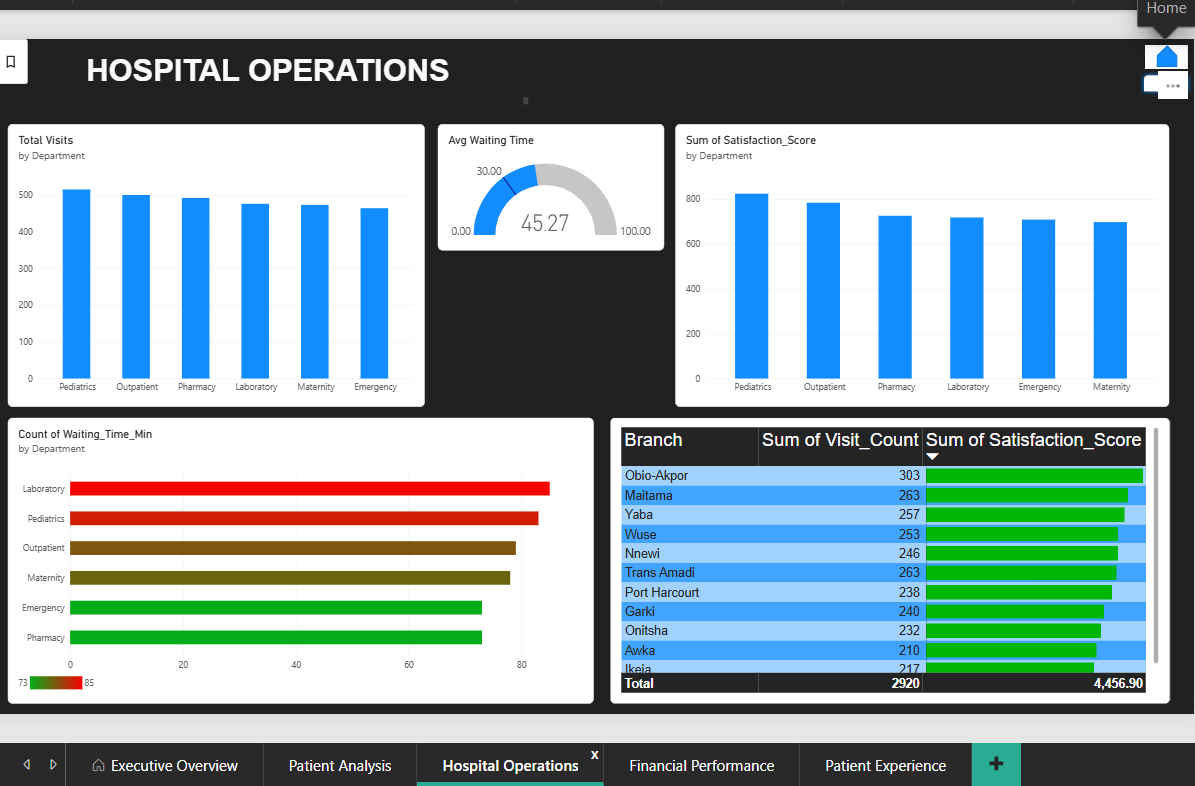

Layout of this report page (visuals, bound fields, positions):
{"tool":"powerbi","page":{"name":"Hospital Operations","canvas":[1920,1080],"ordinal":2},"visuals":[{"type":"textbox","title":"HOSPITAL OPERATIONS","box":[22.5,22.5,832.5,82.5],"z":5000},{"type":"columnChart","fields":{"Category":["Fact_Visits.Department"],"Y":["_Measures.Total Visits"]},"box":[22.5,135,667.5,452.5],"z":6000},{"type":"gauge","fields":{"Y":["_Measures.Avg Waiting Time"]},"box":[710,135,362.5,202.5],"z":7000},{"type":"clusteredBarChart","fields":{"Category":["Fact_Visits.Department"],"Y":["Count(Fact_Visits.Waiting_Time_Min)"]},"box":[22.5,605,937.5,457.5],"z":8000},{"type":"columnChart","fields":{"Category":["Fact_Visits.Department"],"Y":["Sum(Fact_Visits.Satisfaction_Score)"]},"box":[1090,135,790,452.5],"z":9000},{"type":"tableEx","fields":{"Values":["Fact_Visits.Branch","Sum(Fact_Visits.Visit_Count)","Sum(Fact_Visits.Satisfaction_Score)"]},"box":[985,605,895,457.5],"z":10000},{"type":"actionButton","box":[1832.7,50,86,42],"z":10001},{"type":"actionButton","box":[1840.9,8.2,70.9,41.8],"z":10002},{"type":"actionButton","box":[0,0,54,72],"z":10003},{"type":"shape","box":[1859.1,10.9,33.6,35.5],"z":10004}]}

Visuals, with their boxes on the page's 1920x1080 design canvas (x1, y1, x2, y2). These are canvas units, not pixel positions in the 1195x786 screenshot, which may show the page scaled, cropped or inside an application window:
"HOSPITAL OPERATIONS" textbox: <bbox>22, 22, 855, 105</bbox>
columnChart - Fact_Visits.Department x _Measures.Total Visits: <bbox>22, 135, 690, 588</bbox>
gauge - _Measures.Avg Waiting Time: <bbox>710, 135, 1072, 338</bbox>
clusteredBarChart - Fact_Visits.Department x Count(Fact_Visits.Waiting_Time_Min): <bbox>22, 605, 960, 1062</bbox>
columnChart - Fact_Visits.Department x Sum(Fact_Visits.Satisfaction_Score): <bbox>1090, 135, 1880, 588</bbox>
tableEx - Fact_Visits.Branch x Sum(Fact_Visits.Visit_Count): <bbox>985, 605, 1880, 1062</bbox>
actionButton: <bbox>1833, 50, 1919, 92</bbox>
actionButton: <bbox>1841, 8, 1912, 50</bbox>
actionButton: <bbox>0, 0, 54, 72</bbox>
shape: <bbox>1859, 11, 1893, 46</bbox>
